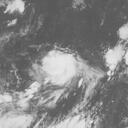cyclone: (38, 45, 87, 88)
